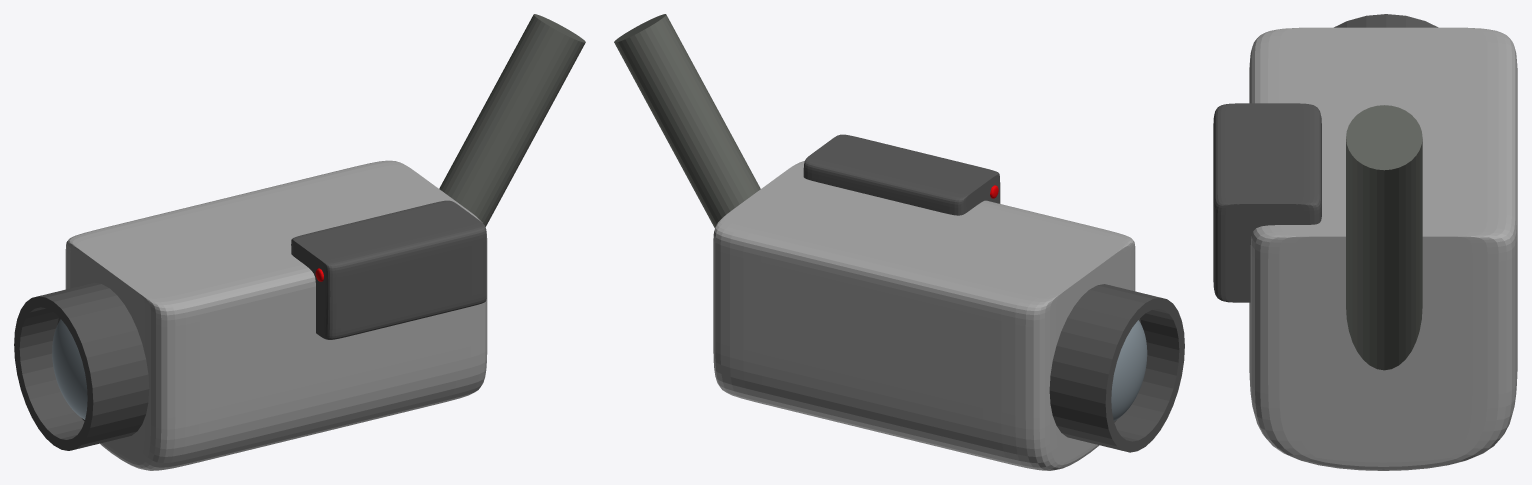
File: Camera.fbx
3 views of the same model, side by side, from view 1: azimuth 30°, elevation 25°; view 2: azimuth 150°, elevation 25°; view 3: azimuth 270°, elevation 25° (orthographic). The views are drawn at different scales.
Visible parts, largest first — view 1: camera; view 2: camera; view 3: camera.
Boxes of the visible parts, left/top/right/bottom form: camera: left=14, top=14, right=585, bottom=470; camera: left=614, top=14, right=1184, bottom=470; camera: left=1213, top=14, right=1517, bottom=470.
Size of the model in its own units: 626 by 379 by 243.
